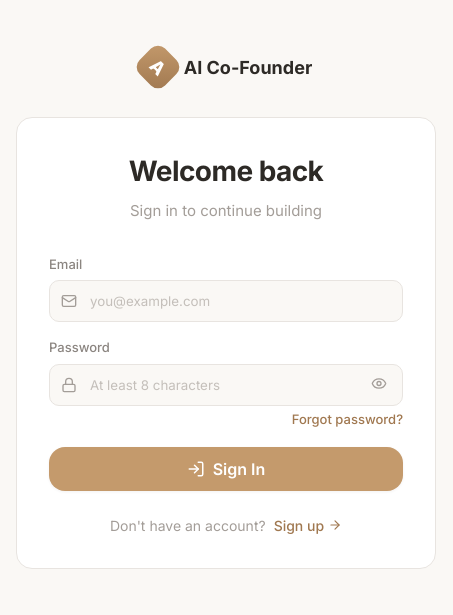
Test case: AuthPage › toggles to register form
Click the button "Sign up".
click(308, 525)  # box [274,517,342,534]
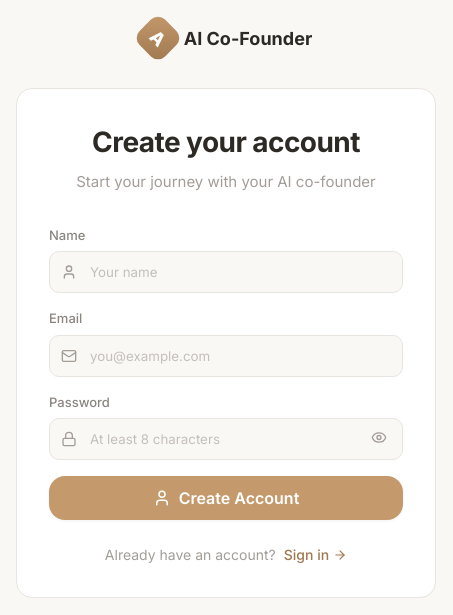
Expected: the heading "Create your account" is shown, [92,125,360,159]
Expected: the button "Create Account" is shown, [49,476,403,520]
Expected: the field with placeholder "Your name" is shown, [49,251,403,293]
